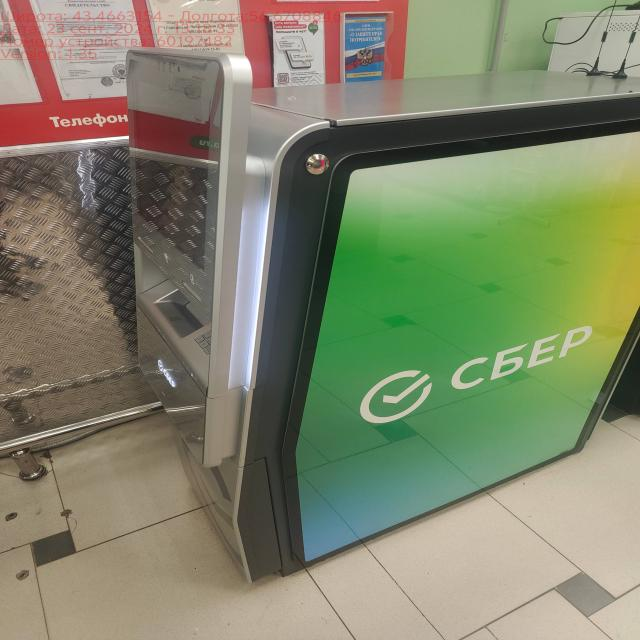bank: (125, 47, 640, 583)
